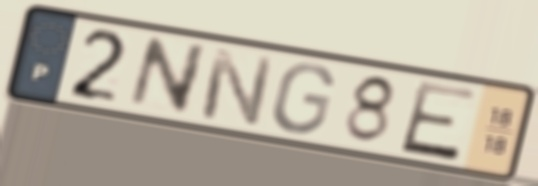2: (69, 27, 129, 107)
8: (339, 73, 396, 147)
E: (396, 78, 482, 165)
G: (268, 61, 338, 137)
N: (124, 35, 212, 118), (196, 44, 277, 130)
